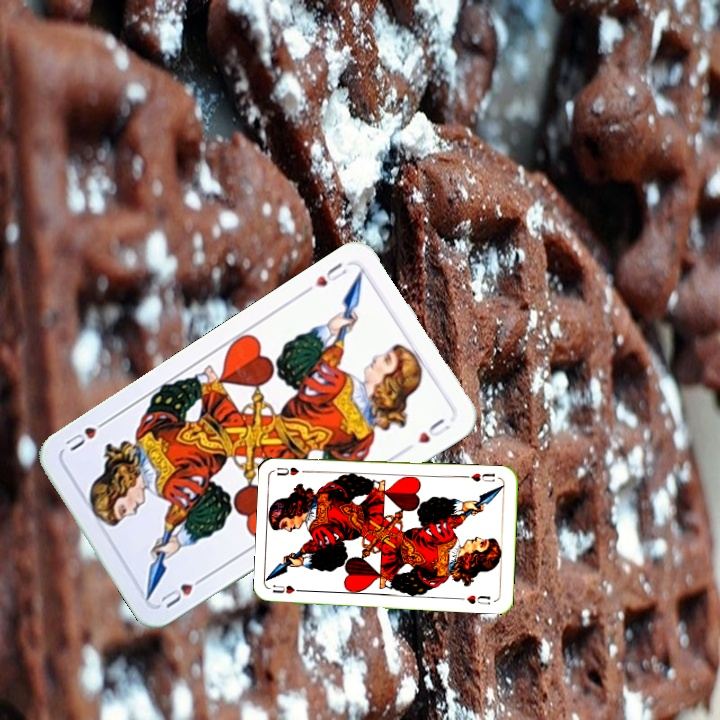HU: (156, 571, 210, 611), (311, 258, 350, 290), (269, 581, 309, 596), (462, 469, 498, 484)
